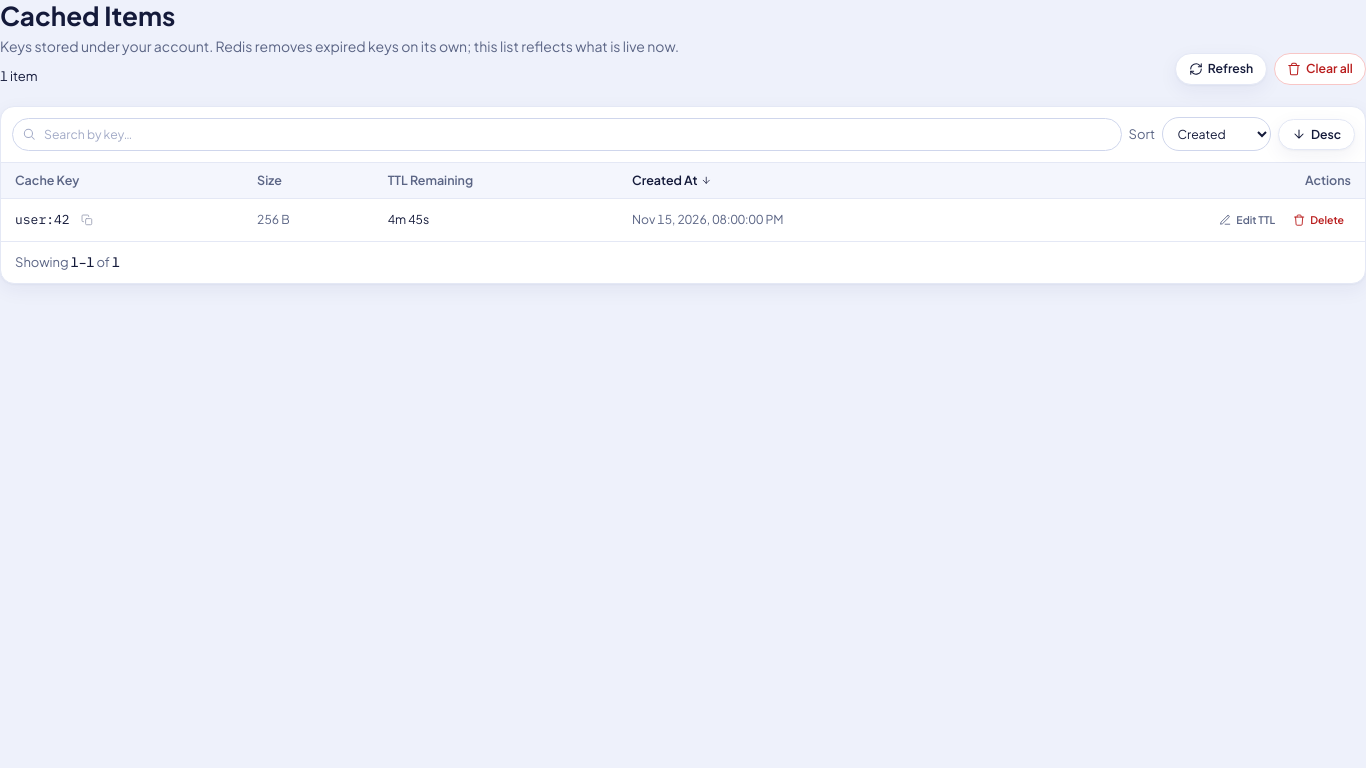
Test case: Cached Items redesign › custom TTL validates input and sends seconds to the existing API
This screenshot has width=1366, height=768.
Later steps or results of the test are not shown.
Step 1. Click the button "Edit TTL" → [1247, 220], box [1212,208,1282,232]
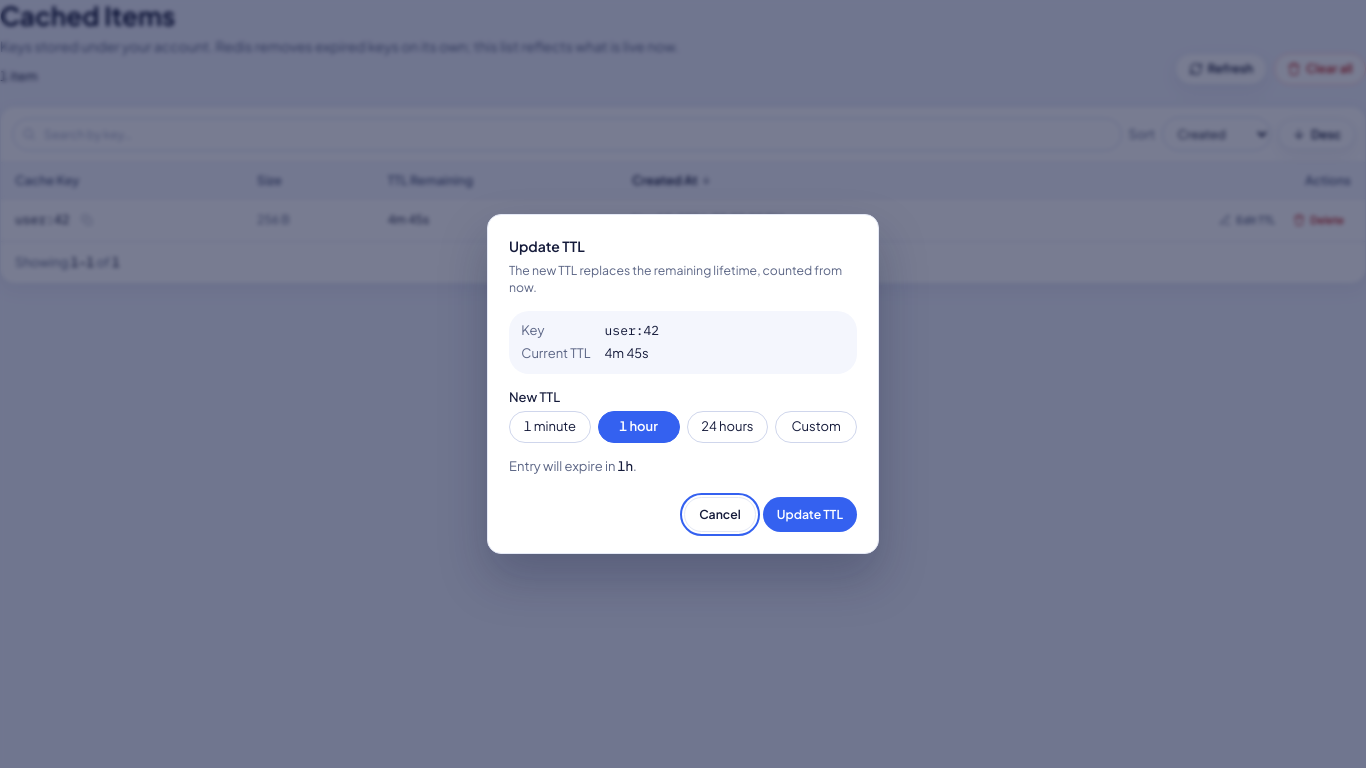
Result: the text "Current TTL" is shown at [521,344,591,364]
Step 2. Click the button "Custom" → [816, 427], box [775,411,857,443]
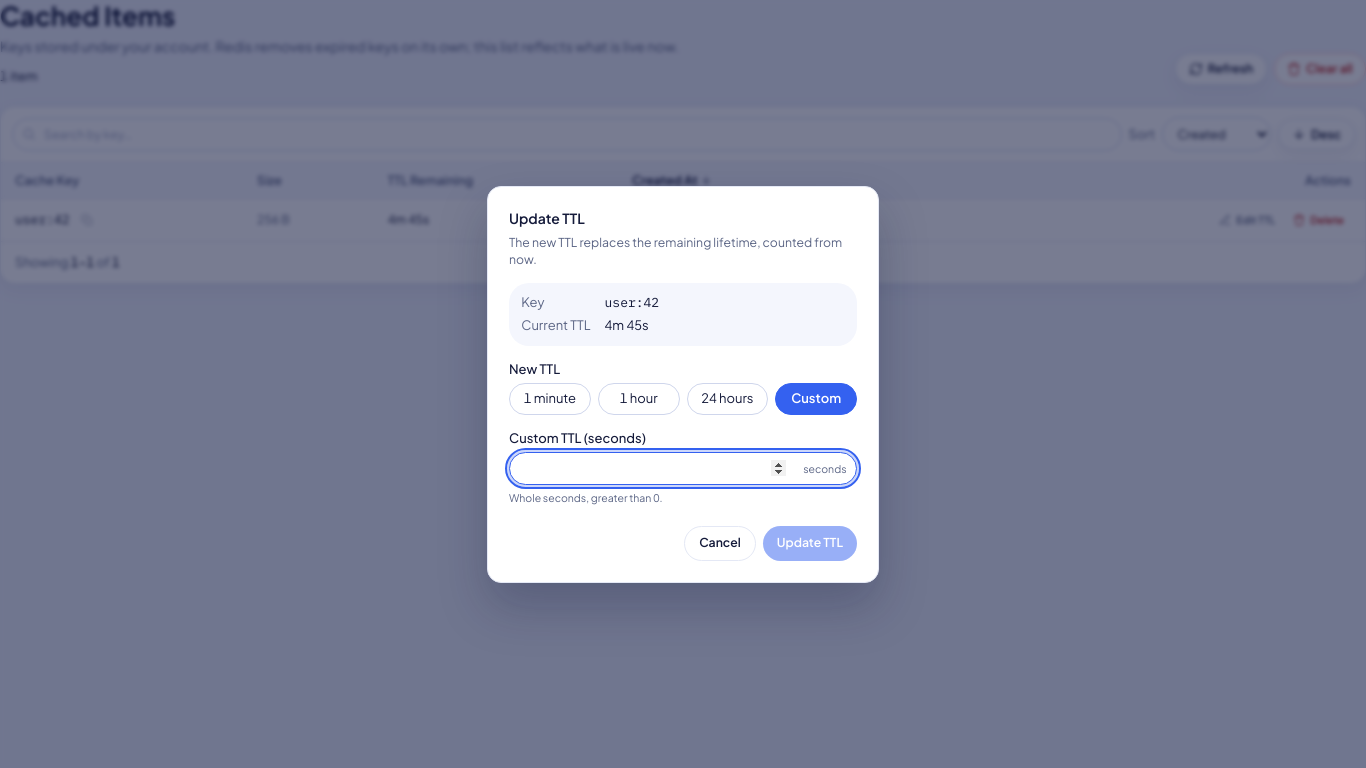
Result: the button "Update TTL" is disabled at [763,526,857,560]
Step 3. Type "0" into the number field labelled "Custom TTL (seconds)" → [683, 469], box [509,452,857,485]
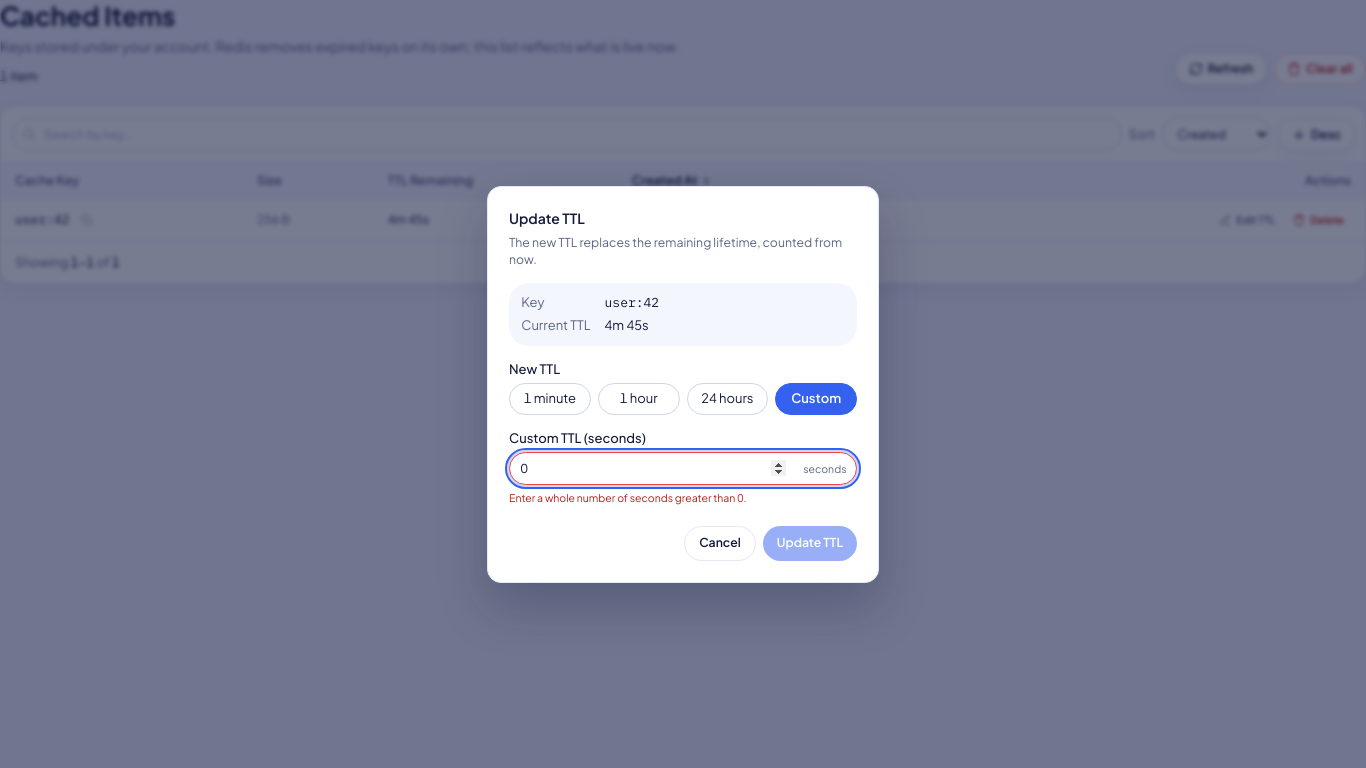
Result: the button "Update TTL" is disabled at [763,526,857,560]
Step 4. Replace the text in the number field labelled "Custom TTL (seconds)" with "5400" → [683, 469], box [509,452,857,485]
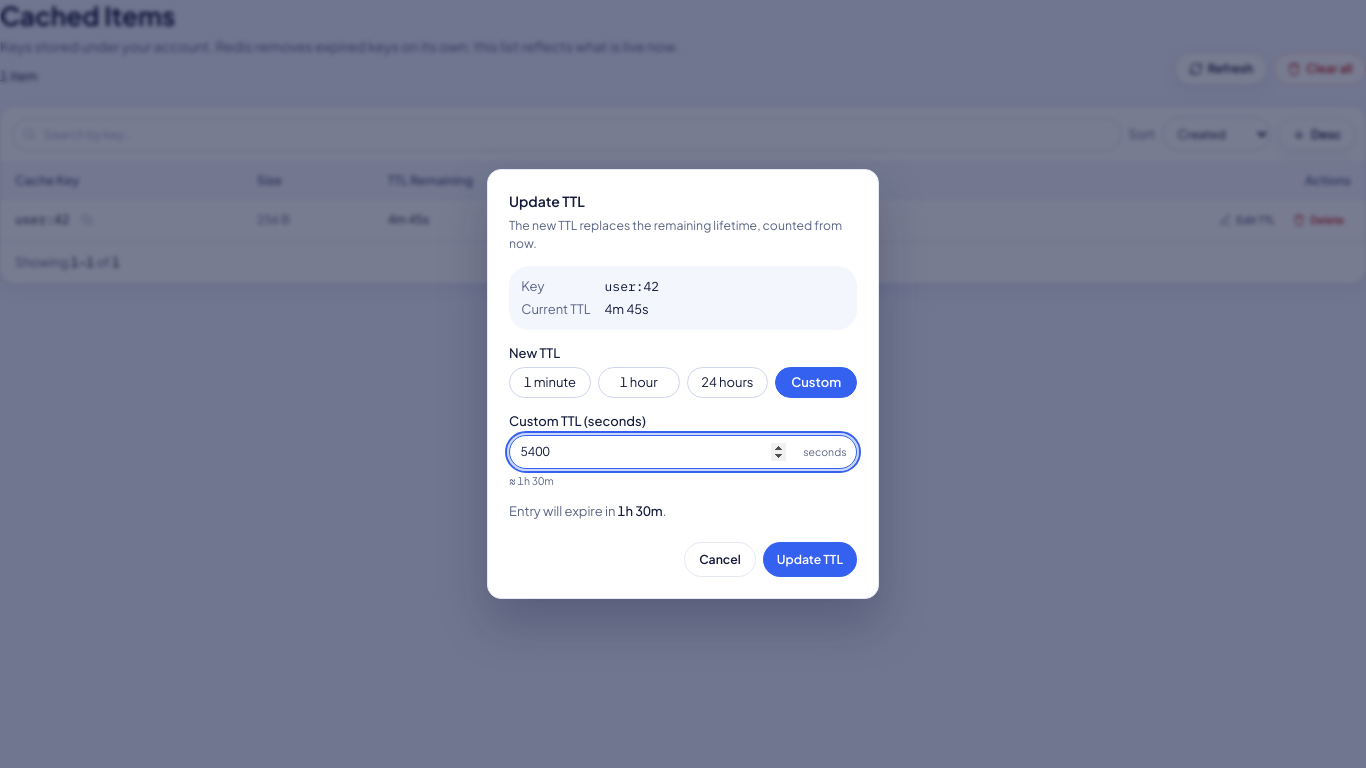
Result: the text "≈ 1h 30m" is shown at [509,474,554,487]
